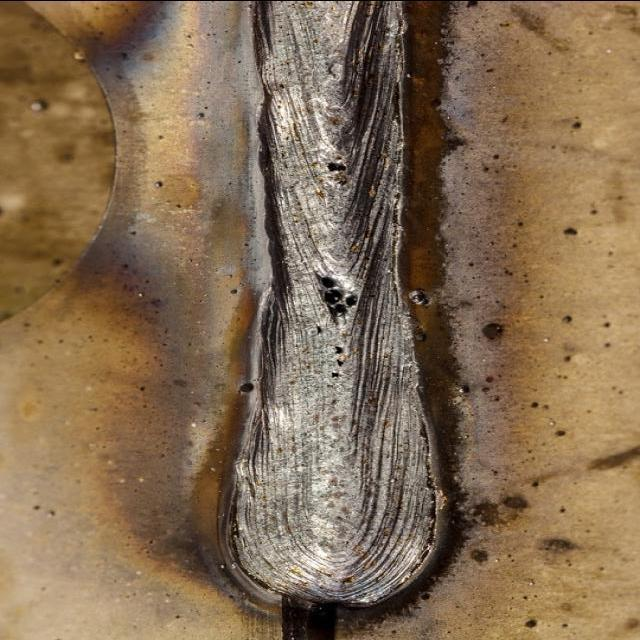defect: (314, 271, 364, 324), (326, 341, 346, 382), (320, 158, 353, 175), (236, 378, 260, 393)
